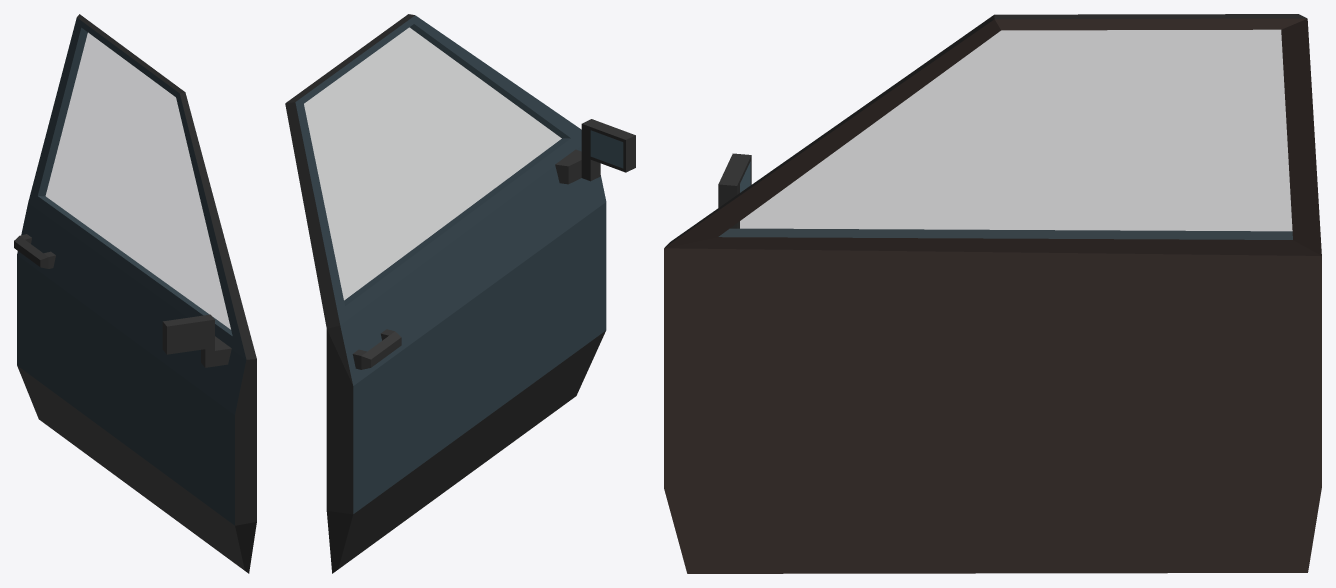
File: puertaR.glb
3 views of the same model, side by side, from view 1: azimuth 30°, elevation 25°; view 2: azimuth 150°, elevation 25°; view 3: azimuth 270°, elevation 25° (orthographic). The views are drawn at different scales.
Visible parts, largest first — view 1: door r, win door r.001; view 2: door r, win door r.001; view 3: door r, win door r.001.
Boxes of the visible parts, x1,y1,x2,y2 form: door r: [14, 14, 256, 573]; win door r.001: [46, 33, 230, 328]; door r: [285, 14, 635, 573]; win door r.001: [304, 28, 561, 299]; door r: [664, 14, 1321, 573]; win door r.001: [719, 30, 1292, 239].
Size of the model in its own units: 0.403 by 1.41 by 1.44.
2 materials, 2 textured.
